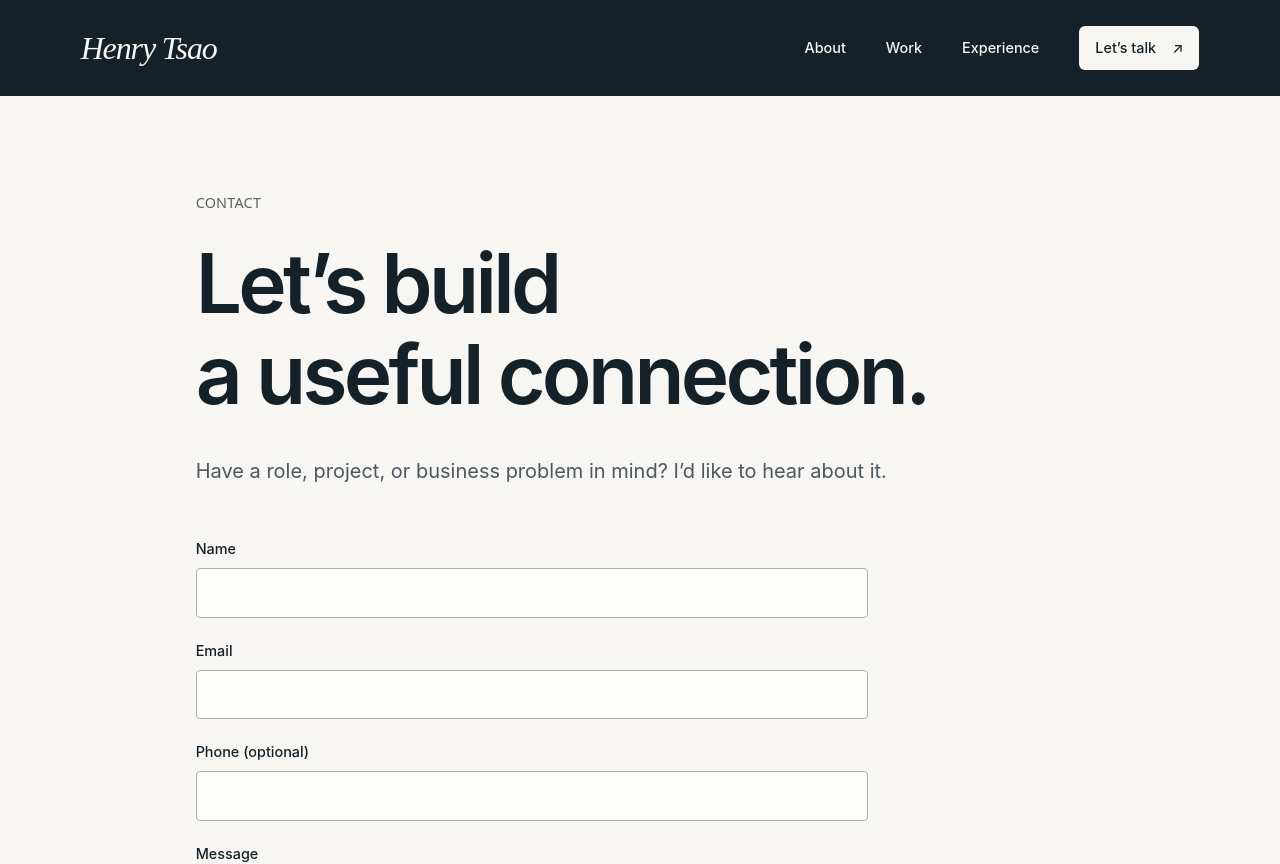
authentication boundary › keeps failed contact input on screen
Step 1. Type "Henry" into the field labelled "Name" → (532, 593), box x1=196 y1=568 x2=868 y2=618
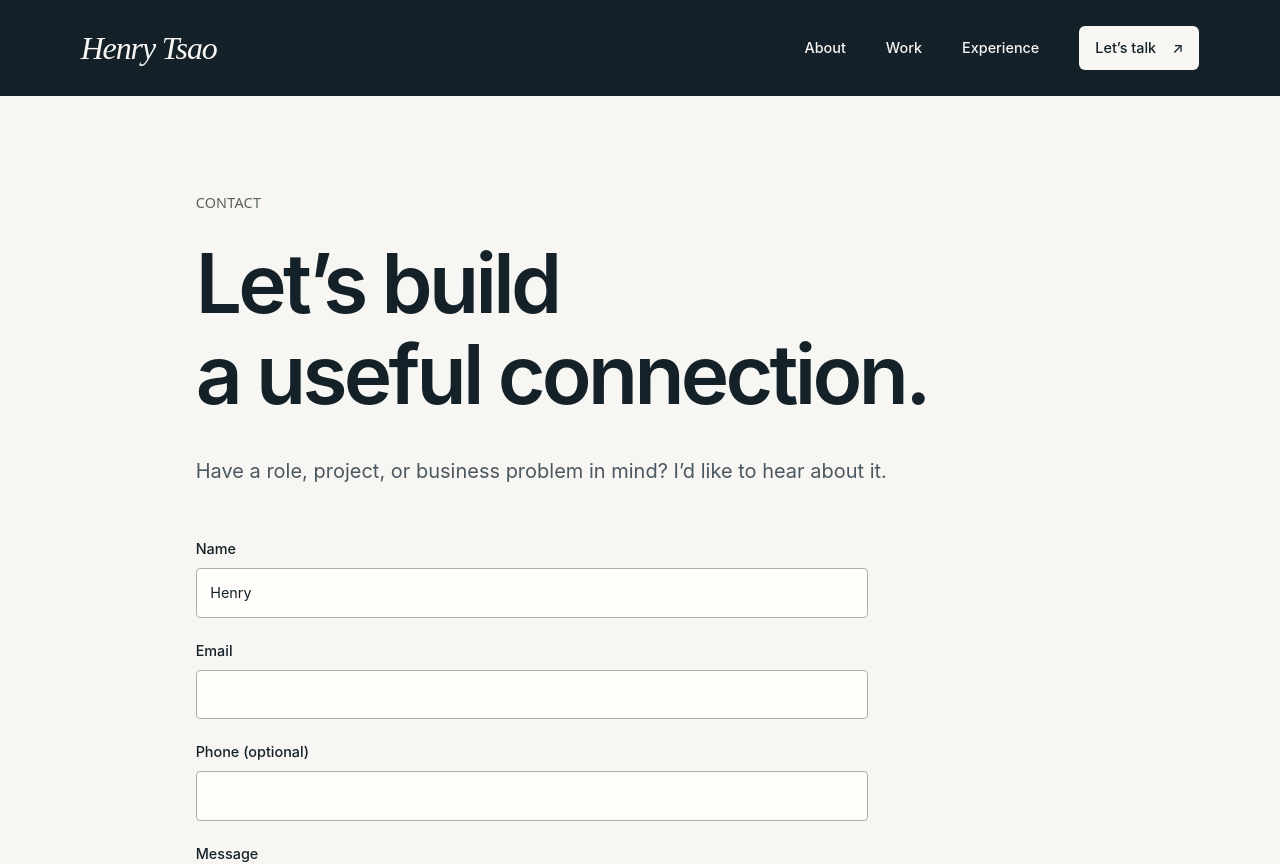
Step 2. Type "henry@example.com" into the field labelled "Email" → (532, 694), box x1=196 y1=670 x2=868 y2=719
(page scrolled)
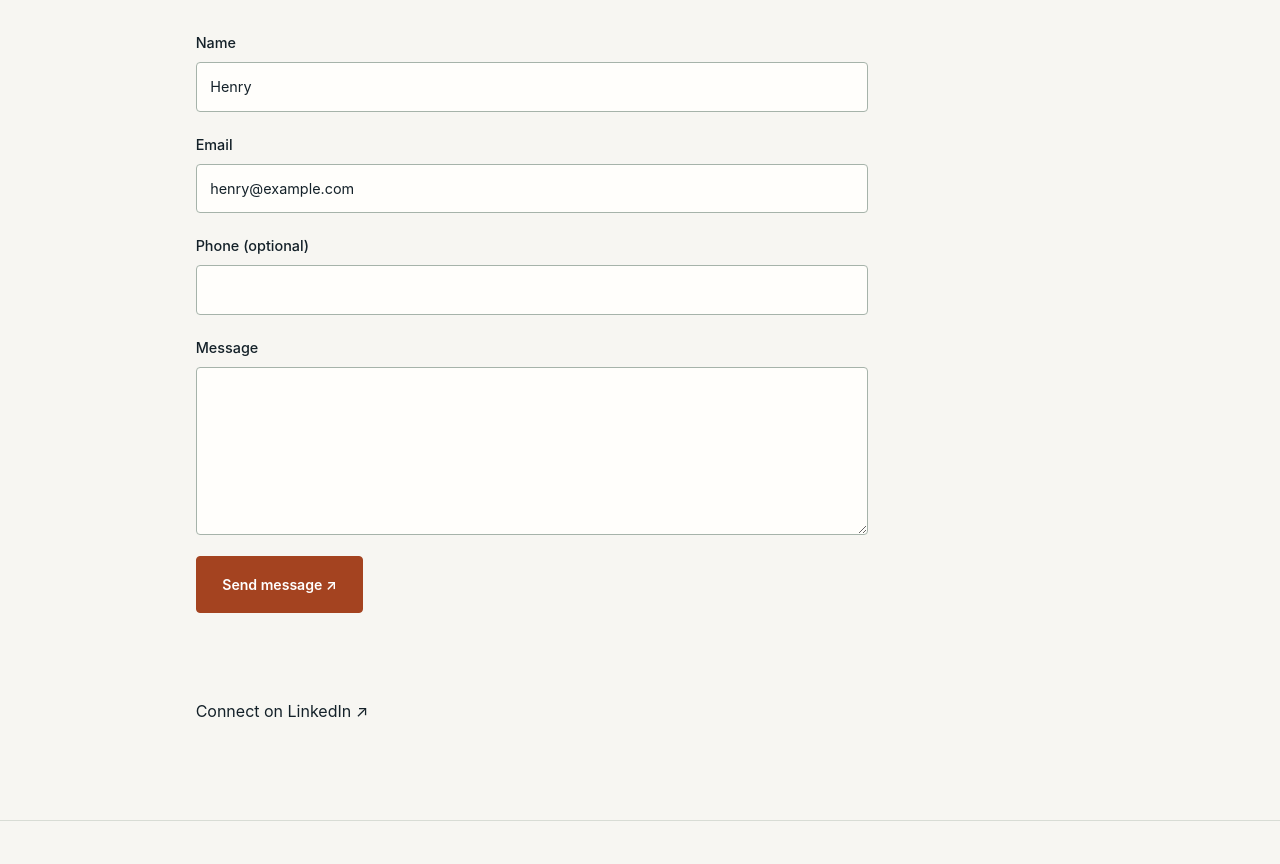
Step 3. Type "A useful message for this test." into the text box labelled "Message" → (532, 451), box x1=196 y1=366 x2=868 y2=535
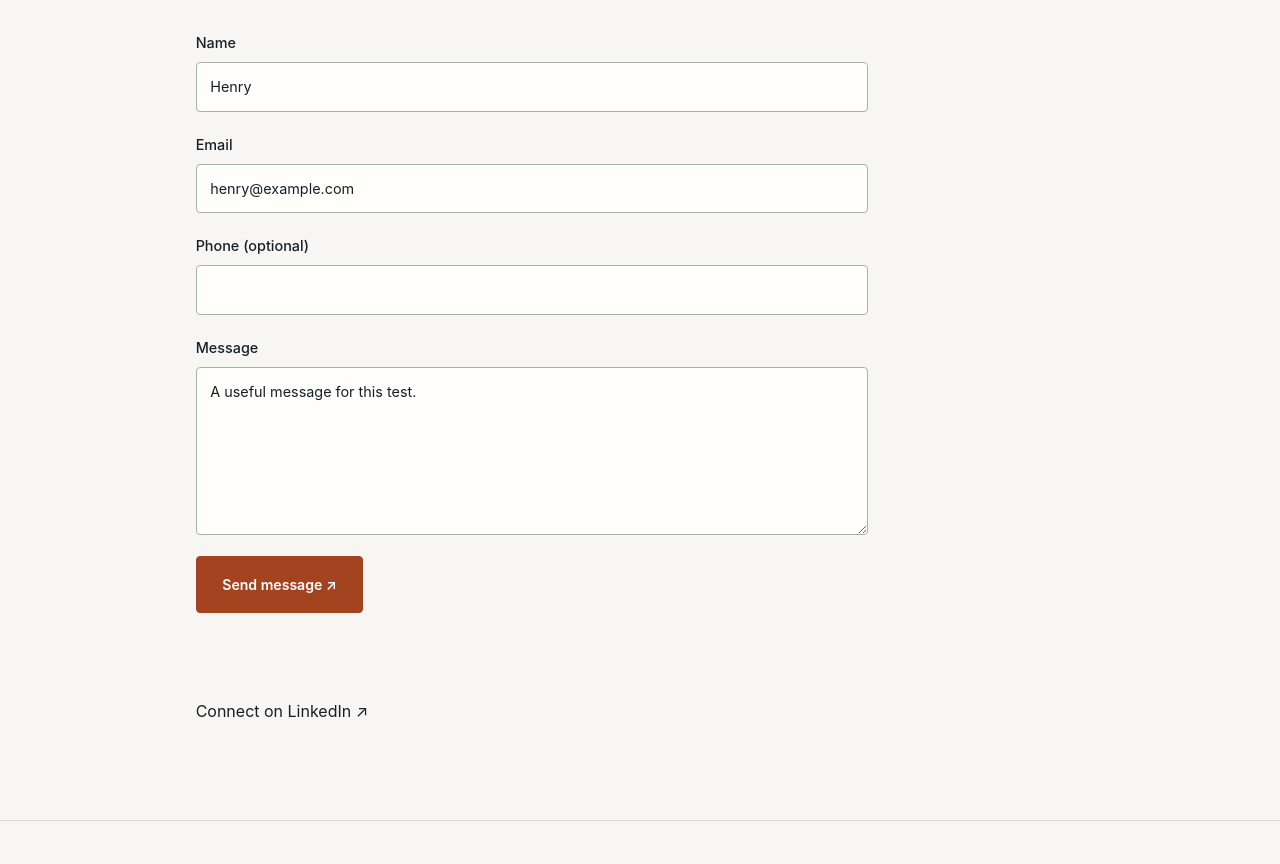
Step 4. Submit the form "Send message ↗", box x1=196 y1=31 x2=868 y2=650
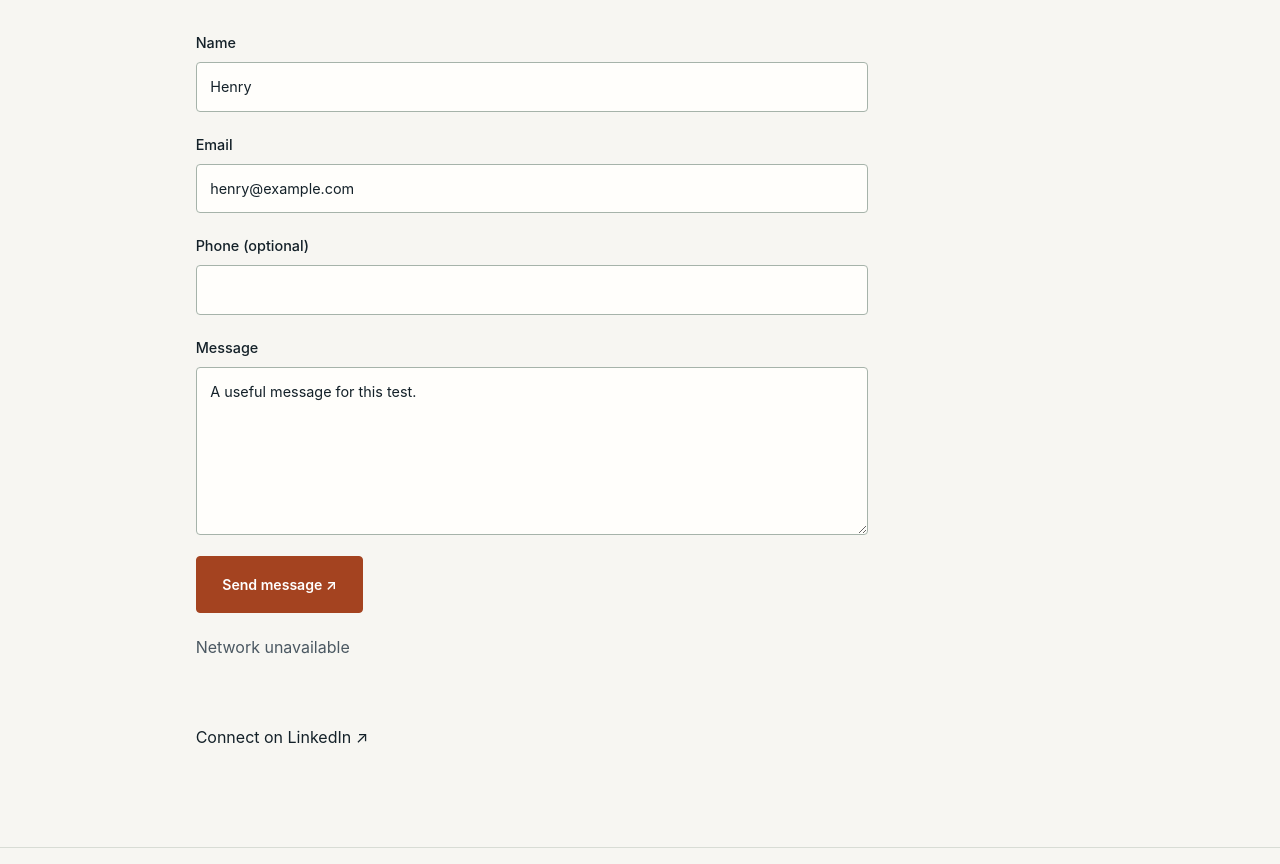
Expected: the message reads "Network unavailable", x1=196 y1=637 x2=350 y2=657
